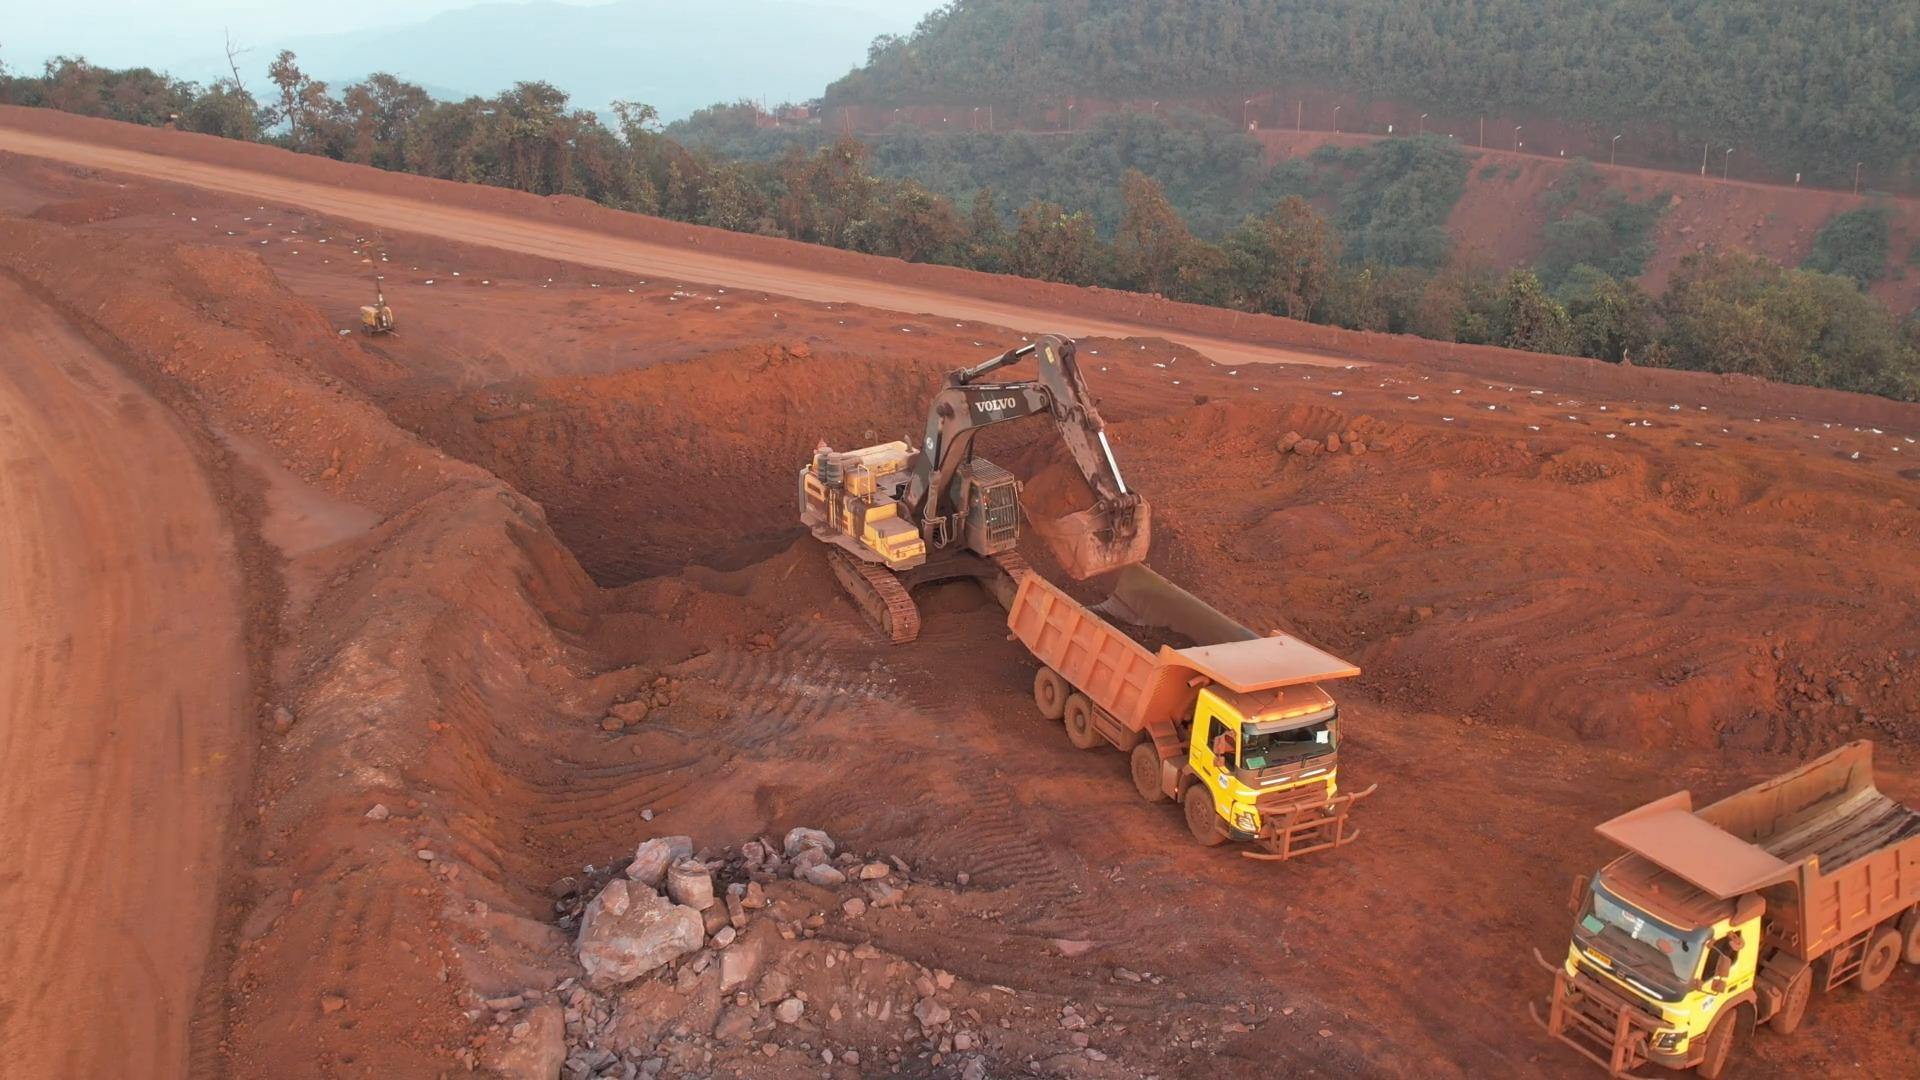excavator: (811, 329, 1154, 577)
